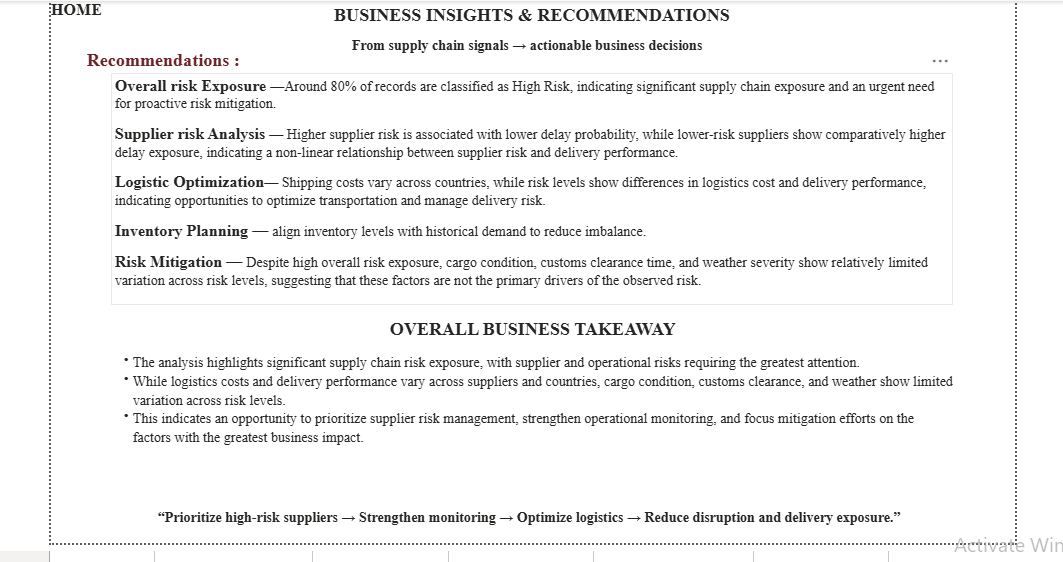

The page's visual inventory and layout, read from the dashboard file:
{"tool":"powerbi","page":{"name":"Business Insights & Recommendations","canvas":[1280,720],"ordinal":6},"visuals":[{"type":"textbox","box":[330.7,0,616.1,42.4],"z":0},{"type":"textbox","box":[395.1,42.4,488.8,35.1],"z":1000},{"type":"textbox","box":[42.9,60,300,48.3],"z":2000},{"type":"textbox","box":[80,95.7,1118.6,308.6],"z":3000},{"type":"textbox","box":[75.7,417.1,1128.6,182.9],"z":4000},{"type":"textbox","box":[137.1,670,1005.7,37.1],"z":5000},{"type":"actionButton","title":"HOME","box":[0,0,100,40],"z":5001}]}

Visuals, with their boxes on the page's 1280x720 design canvas (x1, y1, x2, y2). These are canvas units, not pixel positions in the 1063x562 screenshot, which may show the page scaled, cropped or inside an application window:
textbox: box(331, 0, 947, 42)
textbox: box(395, 42, 884, 78)
textbox: box(43, 60, 343, 108)
textbox: box(80, 96, 1199, 404)
textbox: box(76, 417, 1204, 600)
textbox: box(137, 670, 1143, 707)
"HOME" actionButton: box(0, 0, 100, 40)
